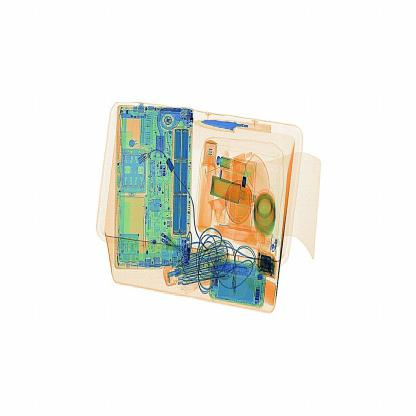wrench: (190, 113, 270, 142)
